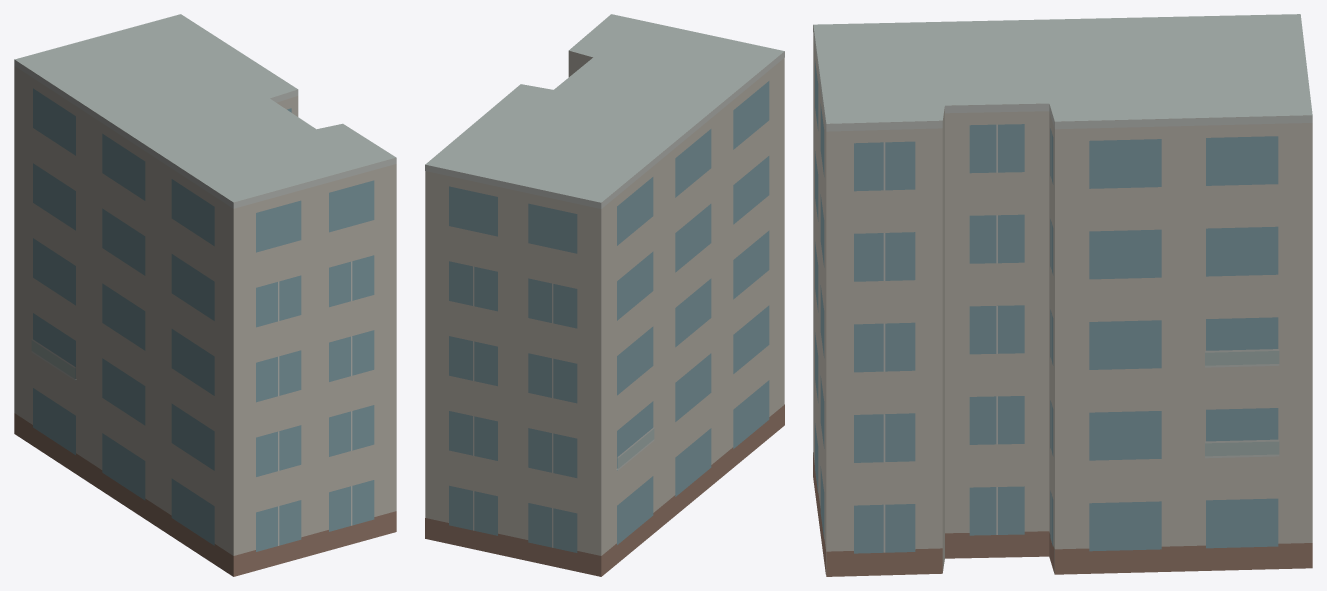
Rendered from survey-upis-32606037.glb.
3 renders of one model, left to right at view 1: azimuth 30°, elevation 25°; view 2: azimuth 150°, elevation 25°; view 3: azimuth 270°, elevation 25°, orthographic. The views are drawn at different scales.
Visible parts, largest first — view 1: survey-upis-32606037.tmp; view 2: survey-upis-32606037.tmp; view 3: survey-upis-32606037.tmp.
Boxes of the visible parts, box(x1,y1,x2,y2) form: survey-upis-32606037.tmp: box(14, 14, 396, 576); survey-upis-32606037.tmp: box(425, 14, 784, 576); survey-upis-32606037.tmp: box(813, 14, 1312, 576).
Bounding box in the file's own units: 7.5 × 14.4 × 14.4.
